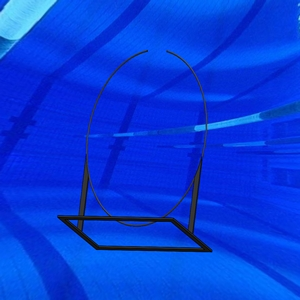circle: (57, 47, 217, 252)
